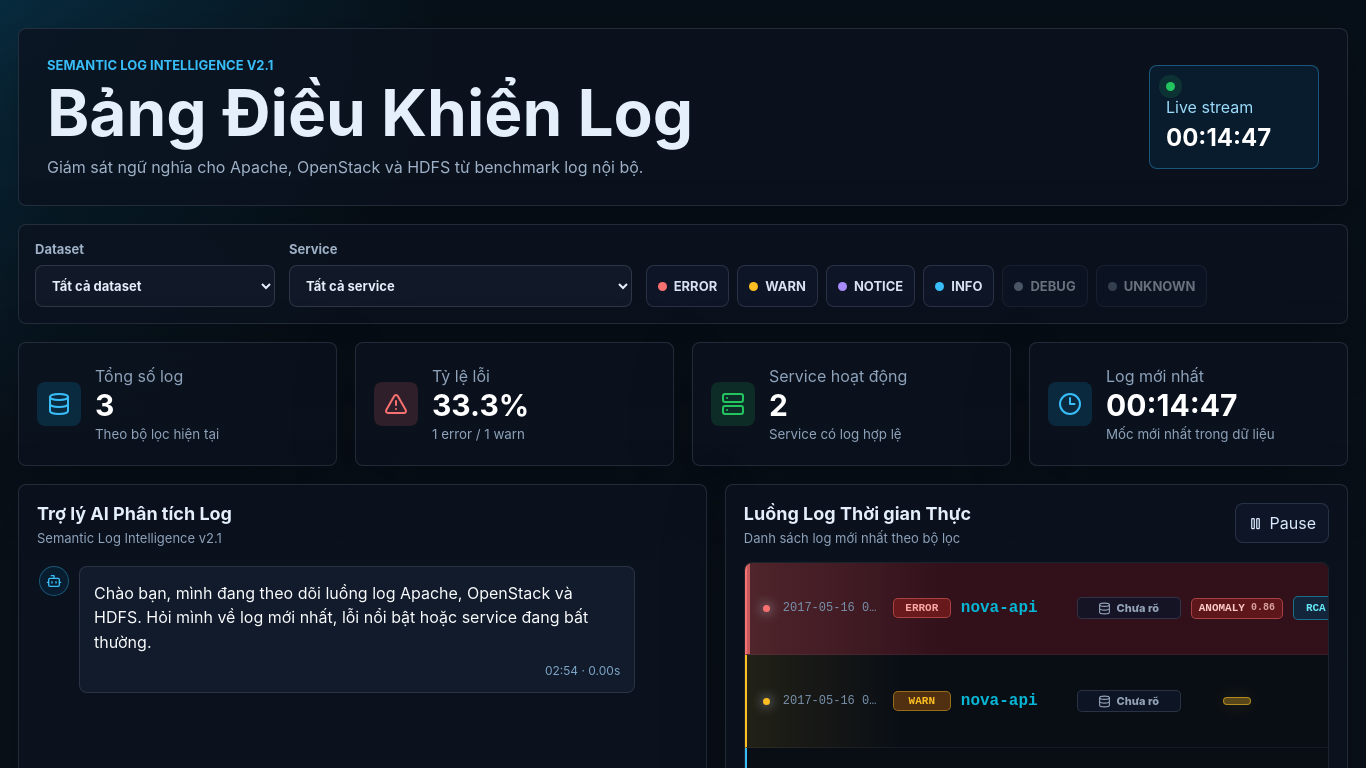
Semantic log React dashboard › renders live logs as compact single-line rows
Expected: the element named "live log row" is shown, [745,563,1329,655]
Expected: the element with class "log-status-dot" next to "2017-05-16 00:14:47.687" is shown, [763,605,770,612]
Hover over the element named "live log row".
mouse_move(1049, 609)  # box [745,563,1353,655]
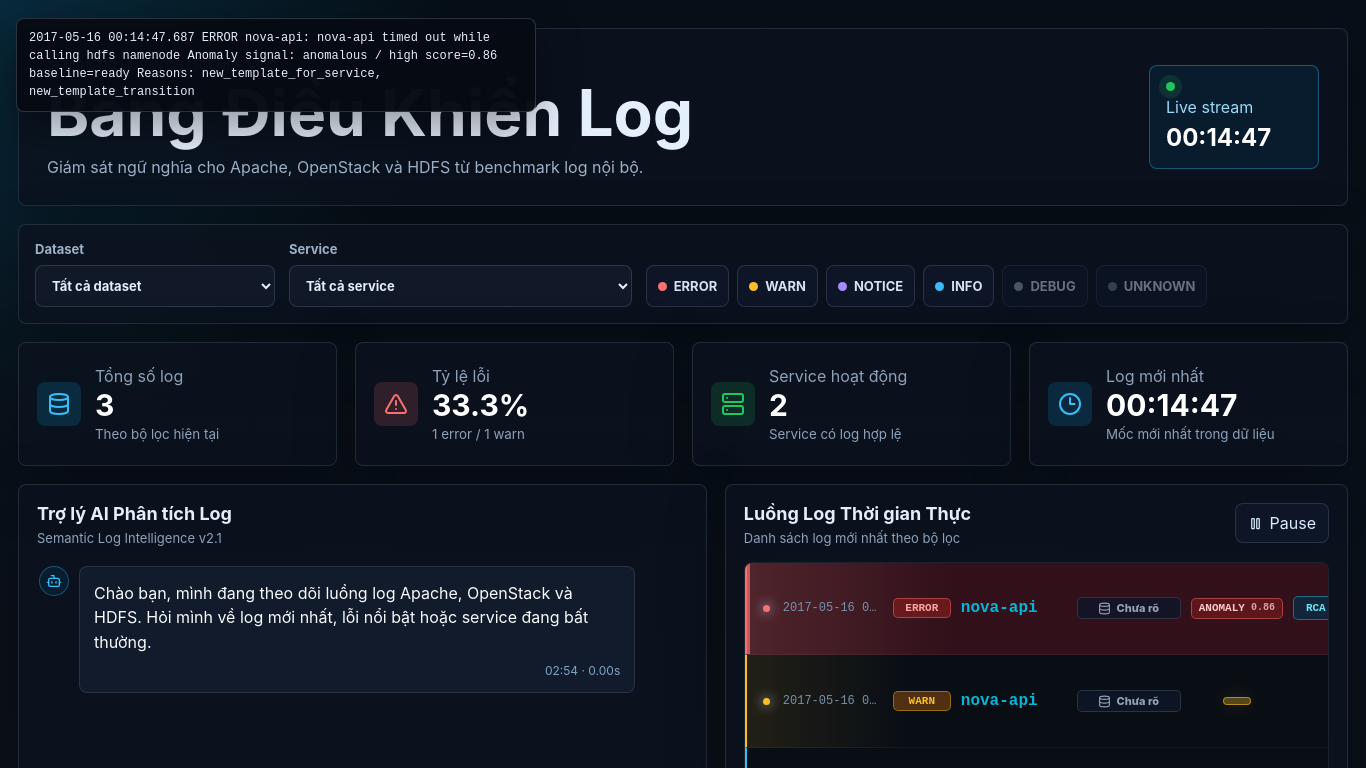
Now the tooltip shows "nova-api timed out while calling hdfs namenode", box [29,31,497,99]
